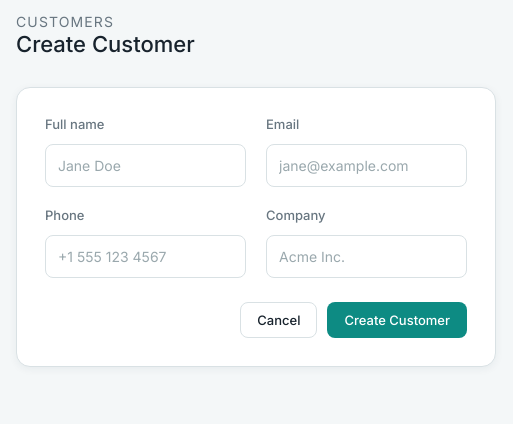
Test case: CustomerCreateView › shows an invalid-email error for a malformed email
In the field with id "customer-fullName": [146, 165] box [45,144,246,187], type "Someone"
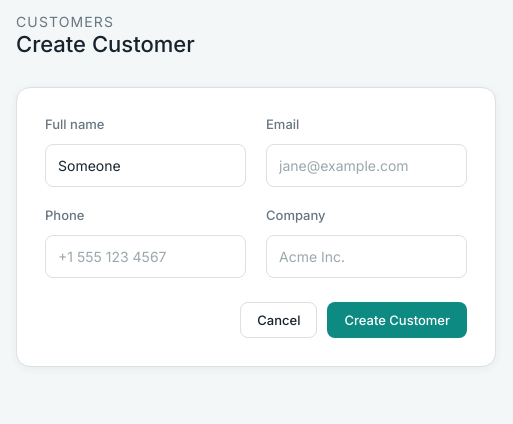
In the field with id "customer-email": [366, 165] box [266,144,467,187], type "not-an-email"
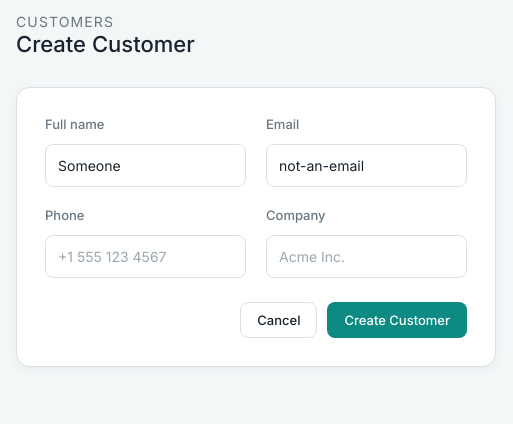
Submit the form
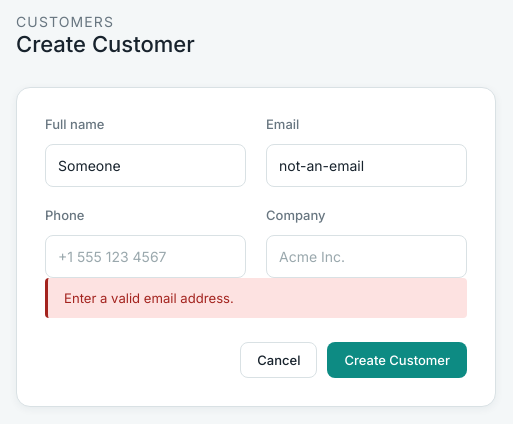
Now the message "Enter a valid email address." is shown, box [45,278,467,318]
